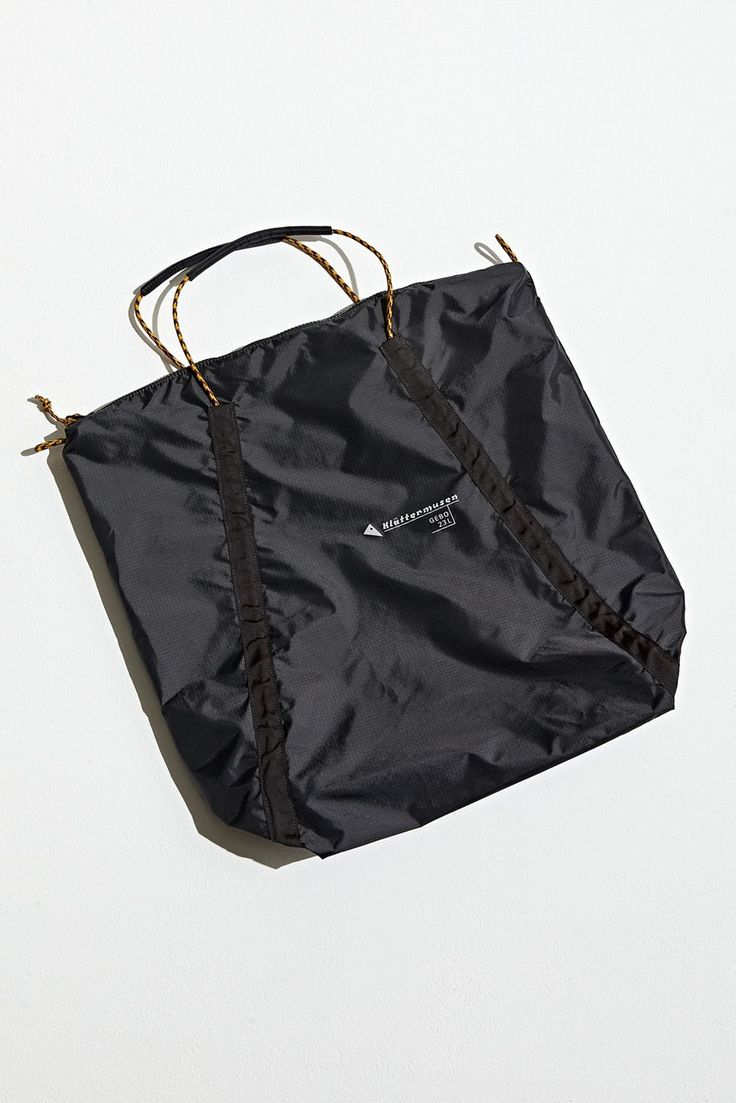nylon: (68, 262, 687, 859)
